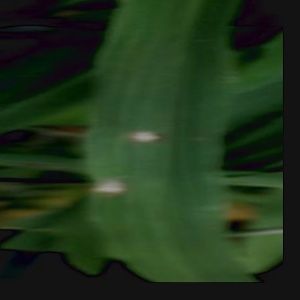Brown_Spot: (77, 173, 137, 215), (121, 111, 170, 153)
